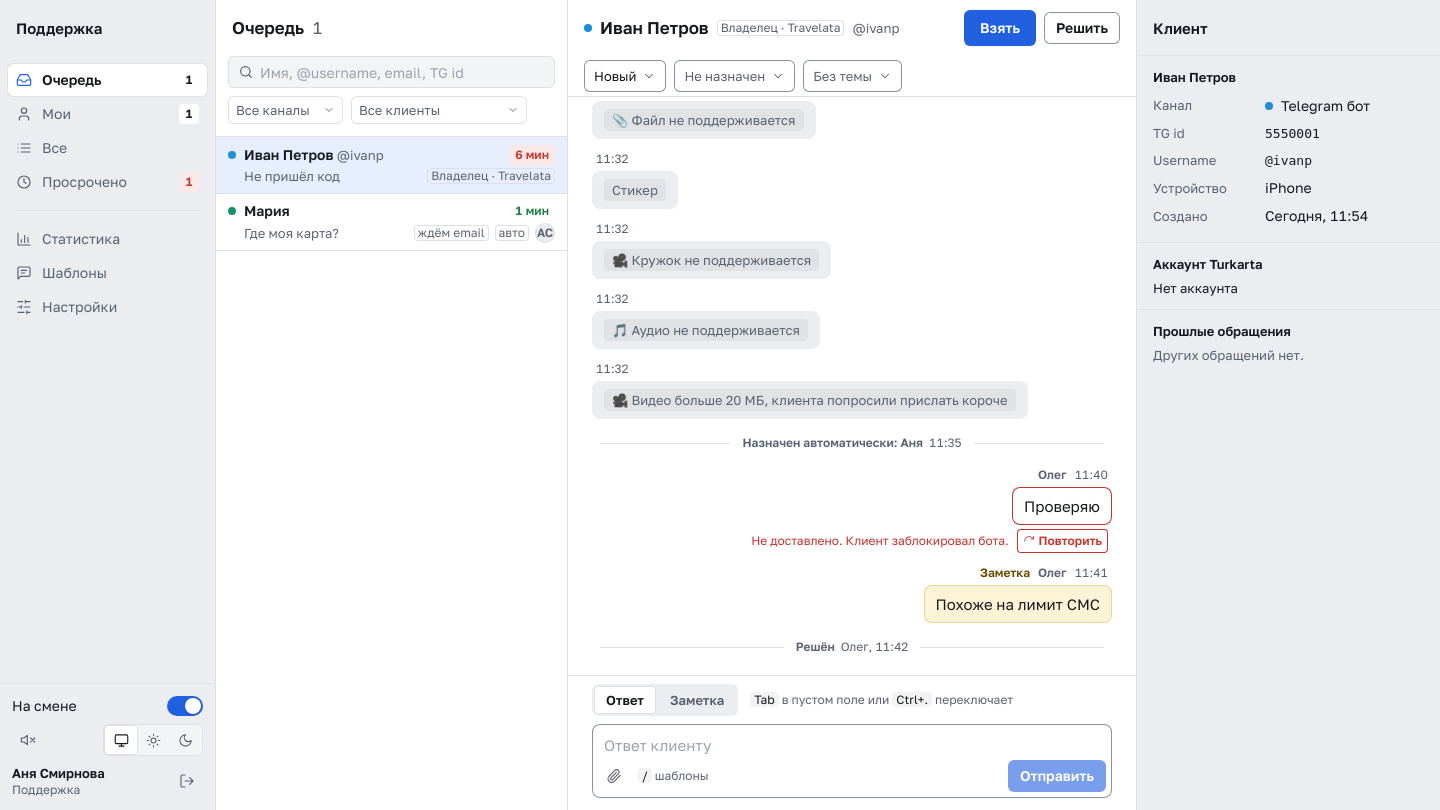
Test: Inbox › a 409 surface_bitrix explains itself and turns the thread read-only
(page scrolled)
Expected: the text box labelled "Ответ клиенту" is shown, x1=592 y1=724 x2=1112 y2=760
Click the button "Взять": (1000, 28) x1=964 y1=10 x2=1036 y2=46
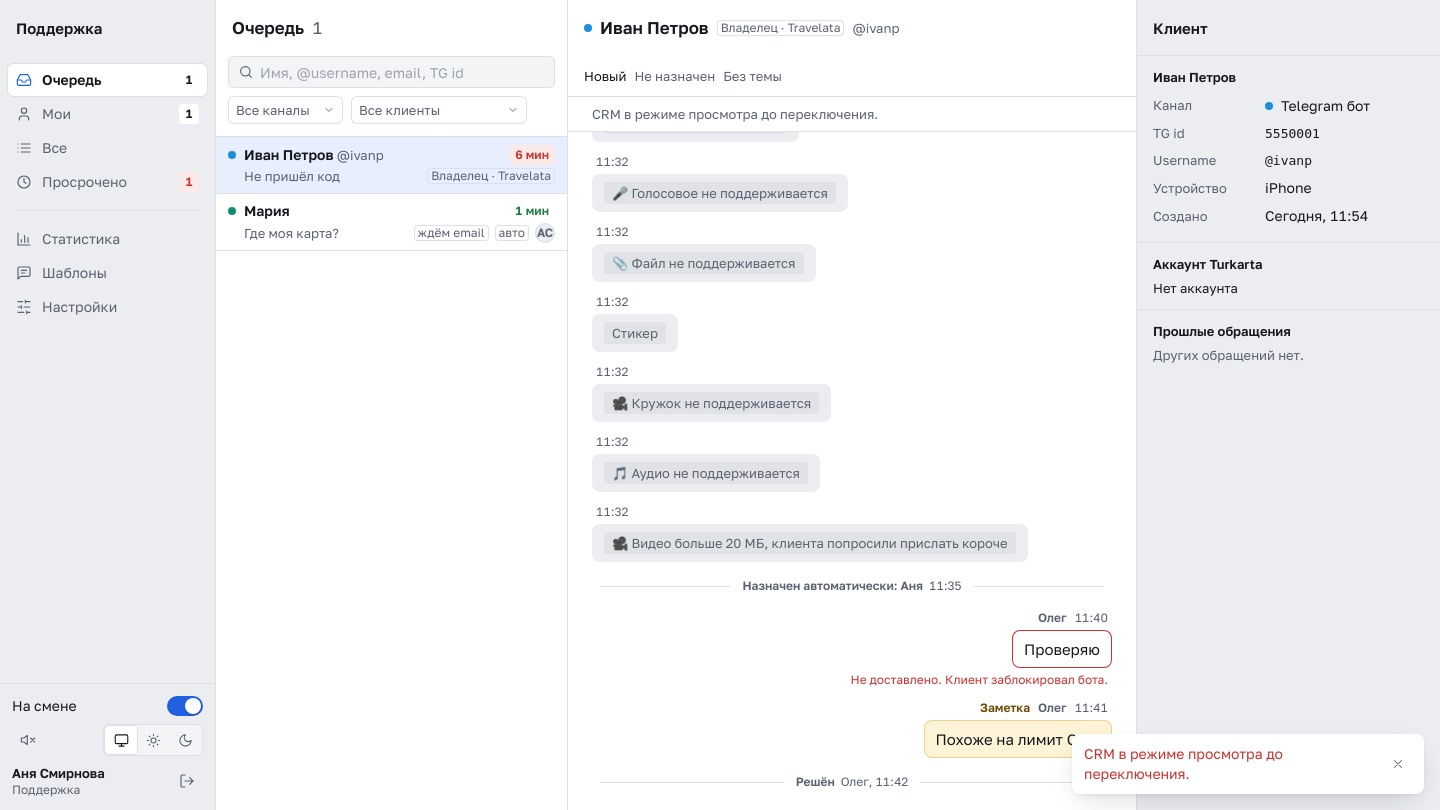
Expected: the field labelled "Ответ клиенту" is not shown
Now the text "CRM в режиме просмотра до переключения." is shown, box x1=1084 y1=745 x2=1283 y2=782
Now the button "Взять" is gone
